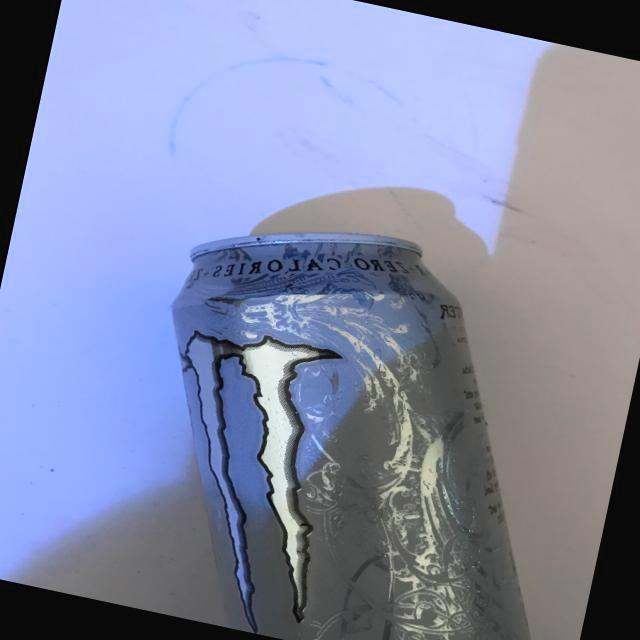metal: (38, 162, 640, 640)
